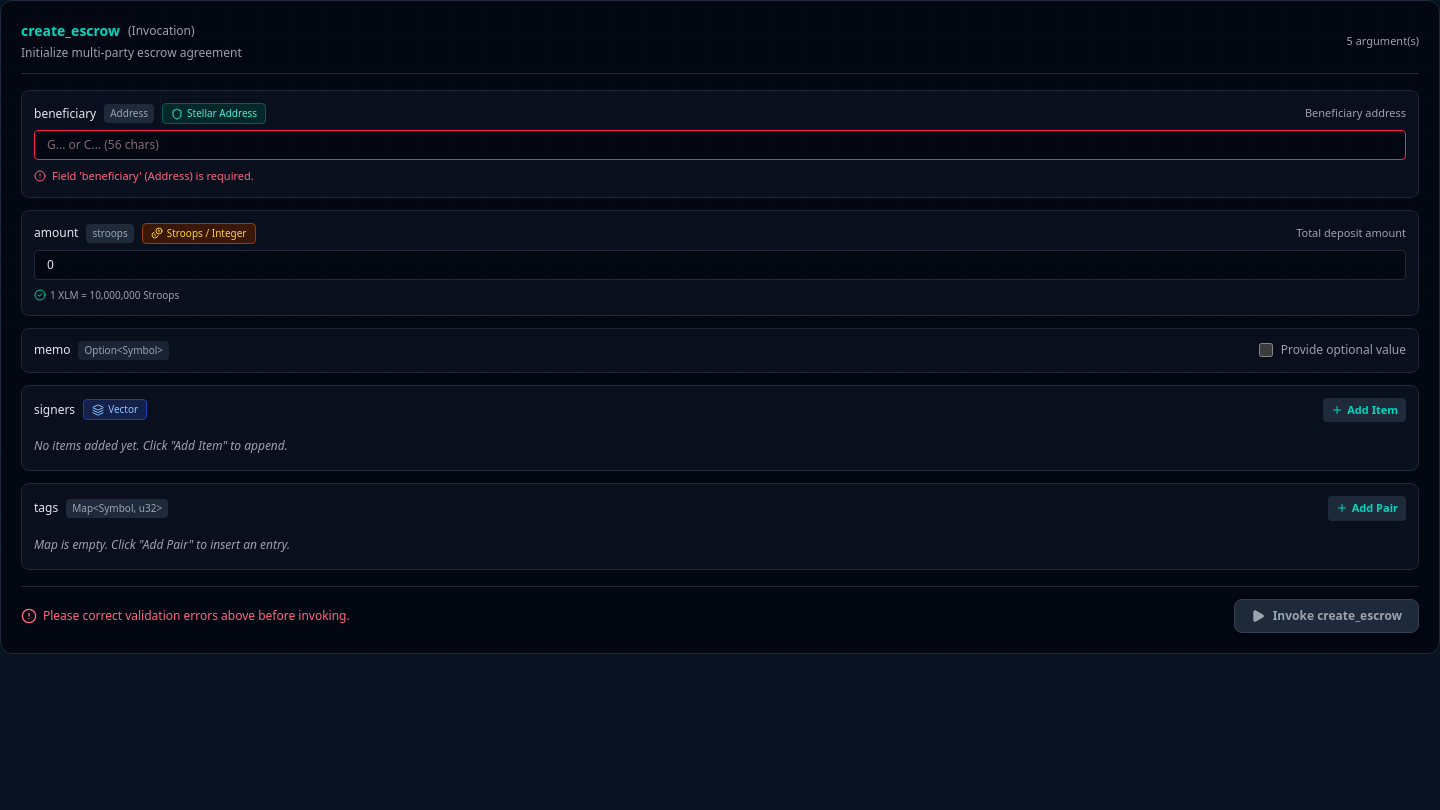
ContractInvocationForm Component › supports dynamic map pair addition and removal
Click the button with test id "add-map-entry-tags": [1367, 508] box [1328,496,1406,520]
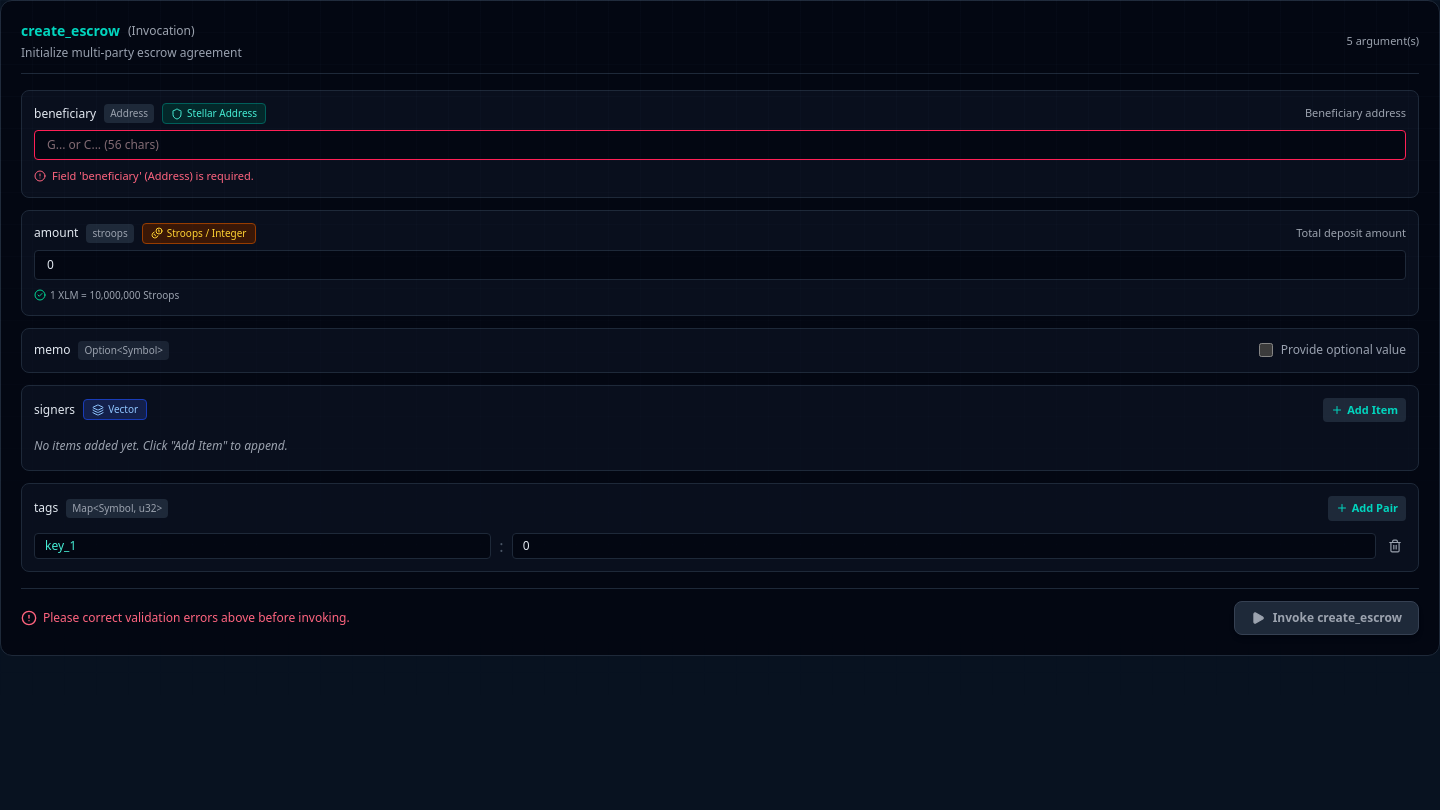
Expected: the field with test id "map-key-tags-0" is shown, [34,532,491,558]
Expected: the field with test id "map-val-tags-0" is shown, [512,532,1376,558]
Click the button with test id "remove-map-entry-tags-0": [1395, 546] box [1384,534,1406,556]
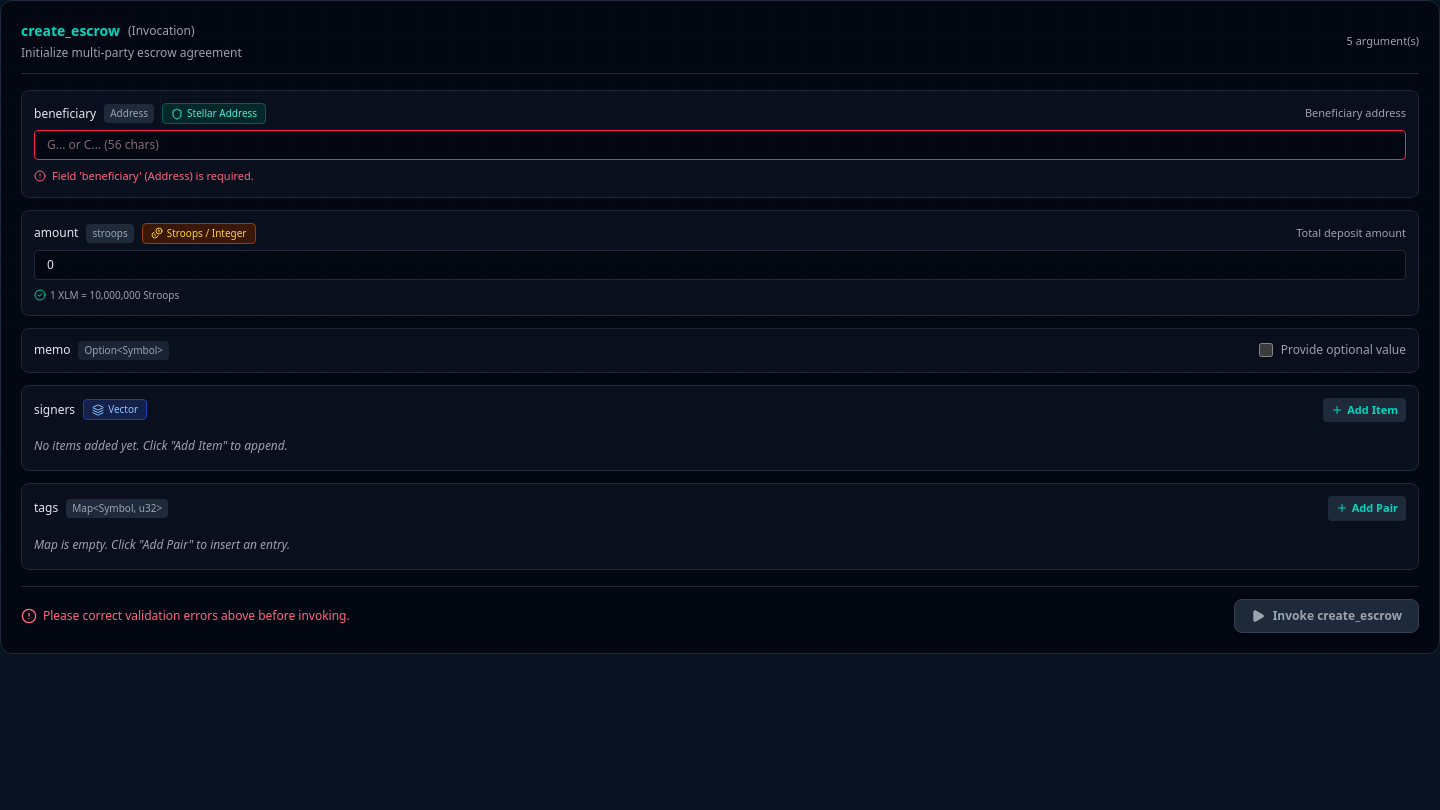
Expected: the field with test id "map-key-tags-0" is gone
